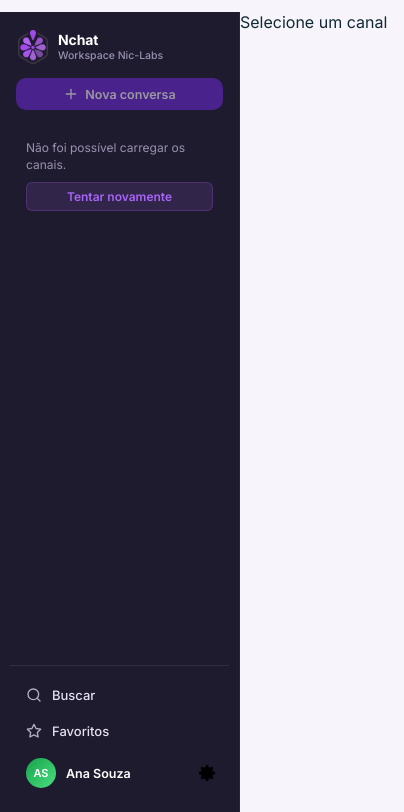
Test: ChatSidebar — section classification › replaces the sections with a single retryable error, exposing no internals
Expected: the message shows "Não foi possível carregar os canais.", [26, 140, 185, 172]
Expected: the heading "Grupos" is not shown
Step 1. Click the button "Tentar novamente" → {"x": 120, "y": 196}, box [26, 182, 213, 211]
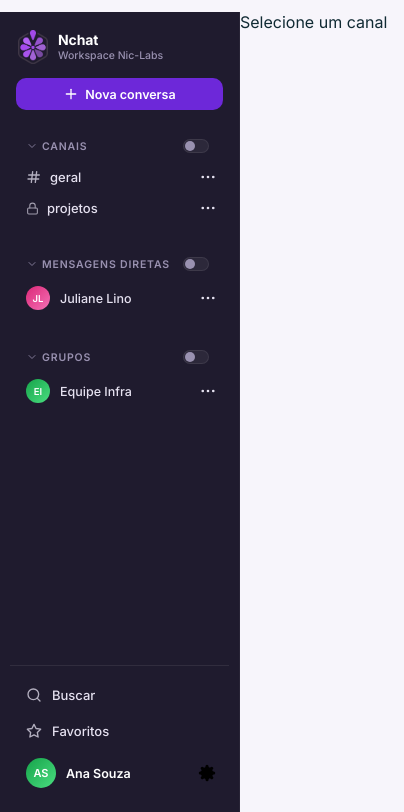
Now the heading "Grupos" is shown, box [26, 350, 91, 364]
